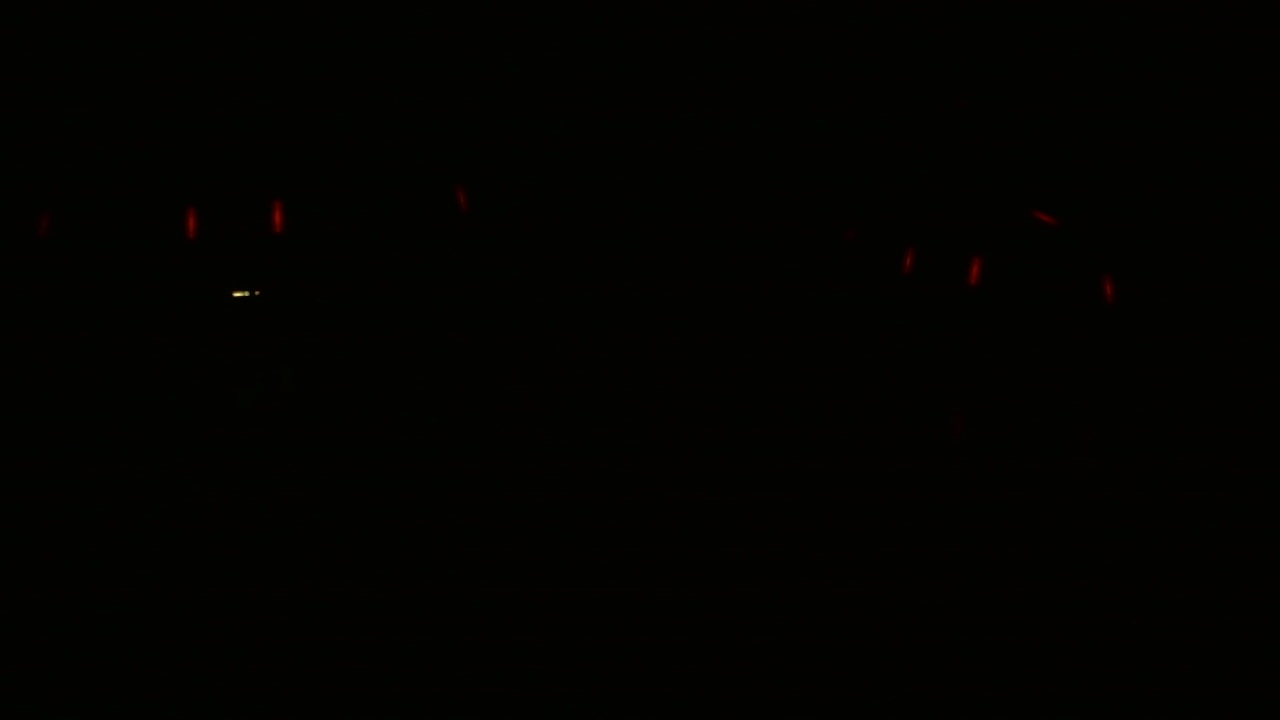pair1: (178, 197, 288, 241), (902, 240, 984, 288)
